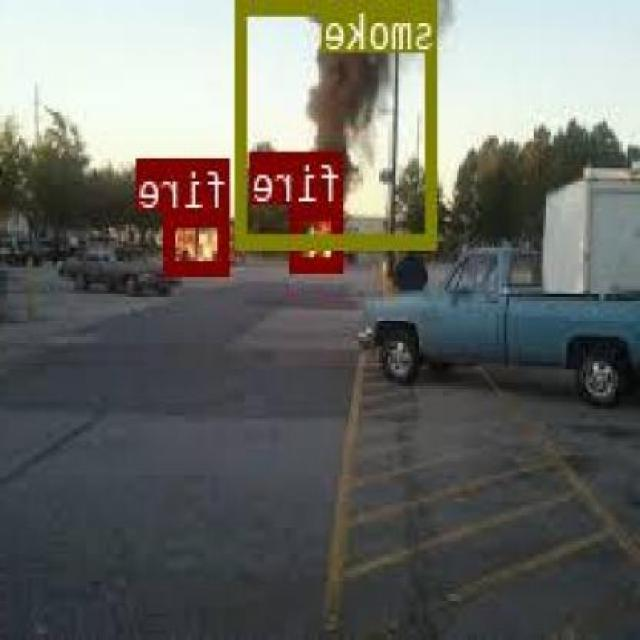Fire: (168, 210, 232, 273), (292, 204, 346, 270)
Smoke: (238, 0, 438, 248)
